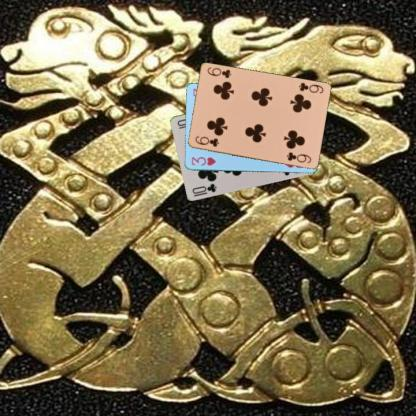10c: (189, 181, 218, 195)
3h: (189, 154, 217, 167)
6c: (296, 80, 325, 94), (193, 133, 220, 148)
